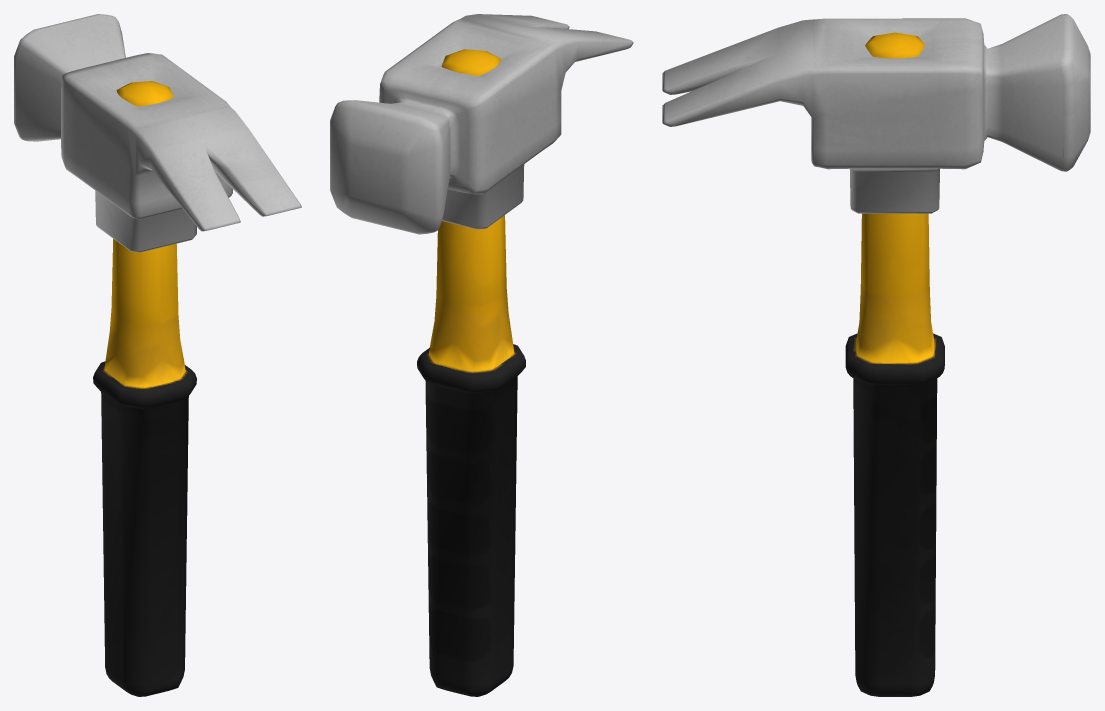
File: Hammer.fbx
3 renders of one model, left to right at view 1: azimuth 30°, elevation 25°; view 2: azimuth 150°, elevation 25°; view 3: azimuth 270°, elevation 25°, orthographic. The views are drawn at different scales.
Visible parts, largest first — view 1: HammerTool; view 2: HammerTool; view 3: HammerTool.
Boxes of the visible parts, bbox=[...] form: HammerTool: bbox=[14, 14, 301, 696]; HammerTool: bbox=[330, 14, 633, 696]; HammerTool: bbox=[662, 14, 1090, 696].
Size of the model in its own units: 5.7 by 31.22 by 18.46.
Materials: 1 (1 with a texture image).
